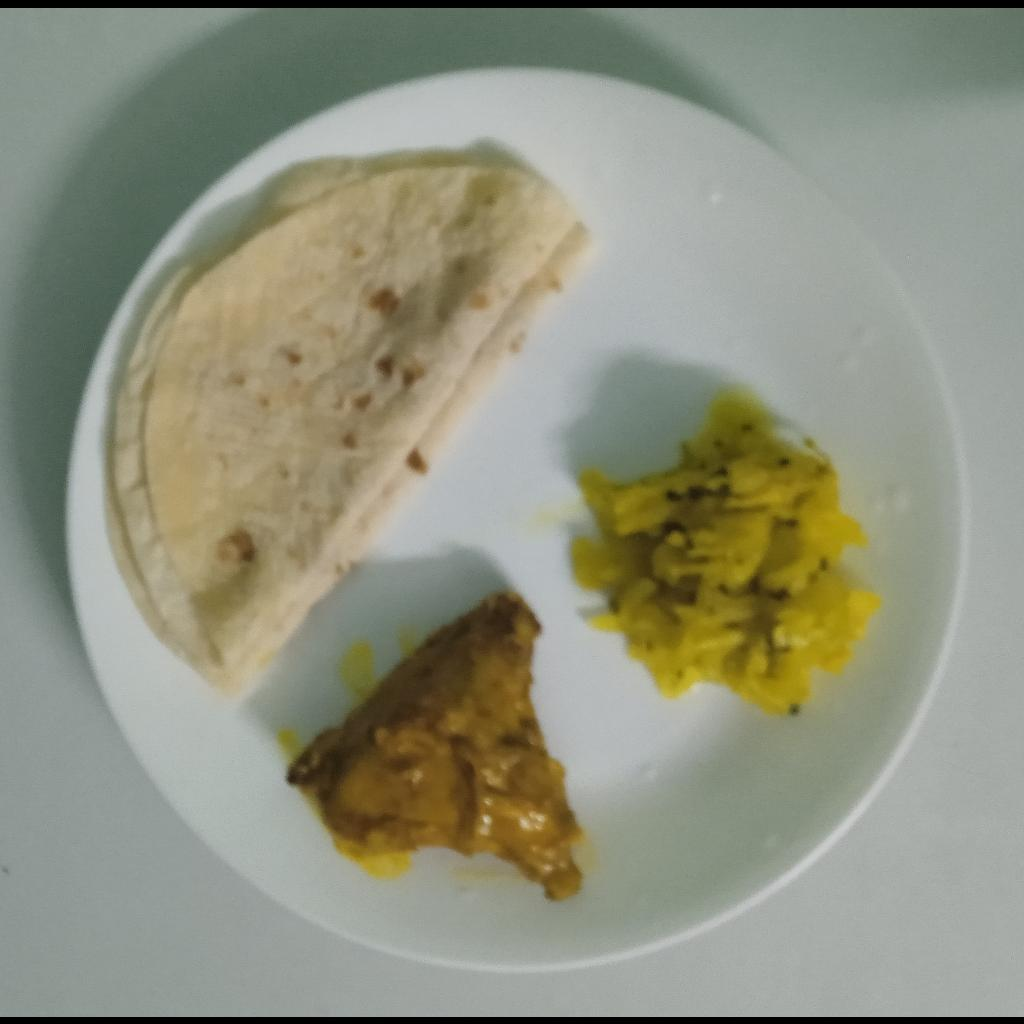chicken: (286, 593, 589, 908)
lau: (567, 388, 886, 720)
ruti: (107, 154, 597, 693)
